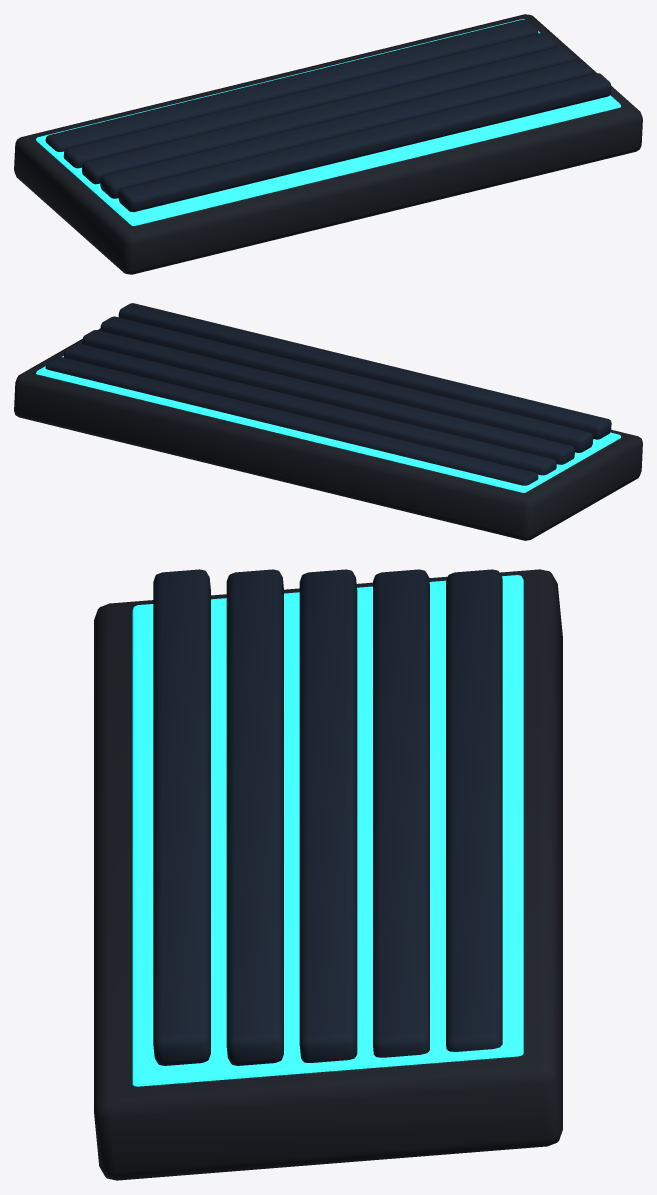
Rendered from kb_tkl_mech-0d4f660c50c5.glb.
3 views of the same model, one above another, from view 1: azimuth 30°, elevation 25°; view 2: azimuth 150°, elevation 25°; view 3: azimuth 270°, elevation 25° (orthographic). The views are drawn at different scales.
Parts seen in each view (by area): view 1: Mesh_Cyber_Slate, Case, RGB_Plate; view 2: Mesh_Cyber_Slate, Case, RGB_Plate; view 3: Mesh_Cyber_Slate, Case, RGB_Plate.
Part boxes in pixels (bbox=[...]): Mesh_Cyber_Slate: bbox=[45, 19, 611, 212]; Case: bbox=[14, 14, 642, 274]; RGB_Plate: bbox=[36, 19, 620, 225]; Mesh_Cyber_Slate: bbox=[45, 303, 611, 485]; Case: bbox=[14, 329, 642, 540]; RGB_Plate: bbox=[36, 356, 620, 492]; Mesh_Cyber_Slate: bbox=[153, 569, 502, 1065]; Case: bbox=[94, 569, 562, 1180]; RGB_Plate: bbox=[132, 575, 523, 1086].
Bounding box in the file's own units: 0.36 × 0.0441 × 0.141.
